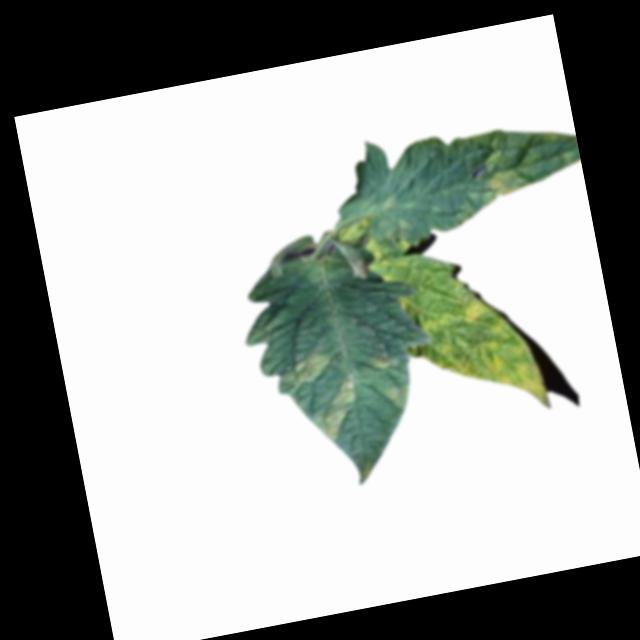Leaf_Mold: (399, 277, 551, 432), (306, 369, 370, 447), (273, 351, 337, 396), (484, 164, 534, 200), (386, 384, 411, 410), (367, 347, 394, 370)
